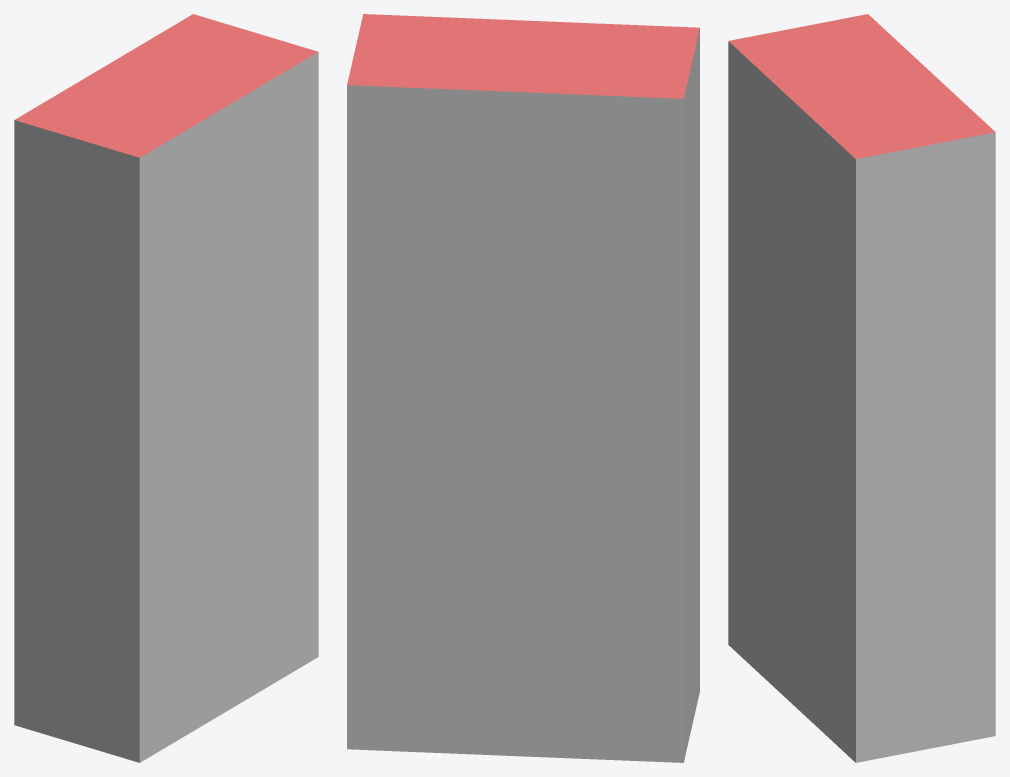
Rendered from ID_383bd40f-6268-4822-bb33-0b7ececd0406.gltf.
The picture shows the model from 3 angles, left to right: view 1: azimuth 30°, elevation 25°; view 2: azimuth 150°, elevation 25°; view 3: azimuth 270°, elevation 25°; orthographic projection. The views are drawn at different scales.
Parts seen in each view (by area): view 1: Z_UP; view 2: Z_UP; view 3: Z_UP.
Boxes of the visible parts, x1,y1,x2,y2 form: Z_UP: [14, 14, 318, 762]; Z_UP: [347, 14, 699, 762]; Z_UP: [728, 14, 995, 762].
Size of the model in its own units: 6.7 by 13 by 5.22.
